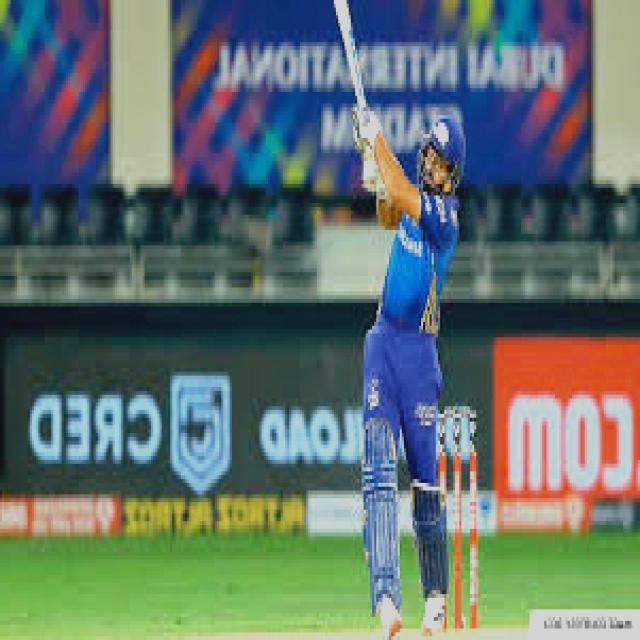toe: (327, 0, 353, 27)
